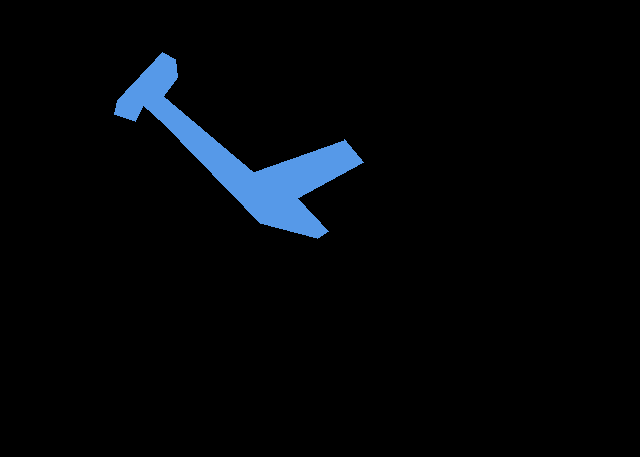Airplane: (114, 52, 364, 239)
